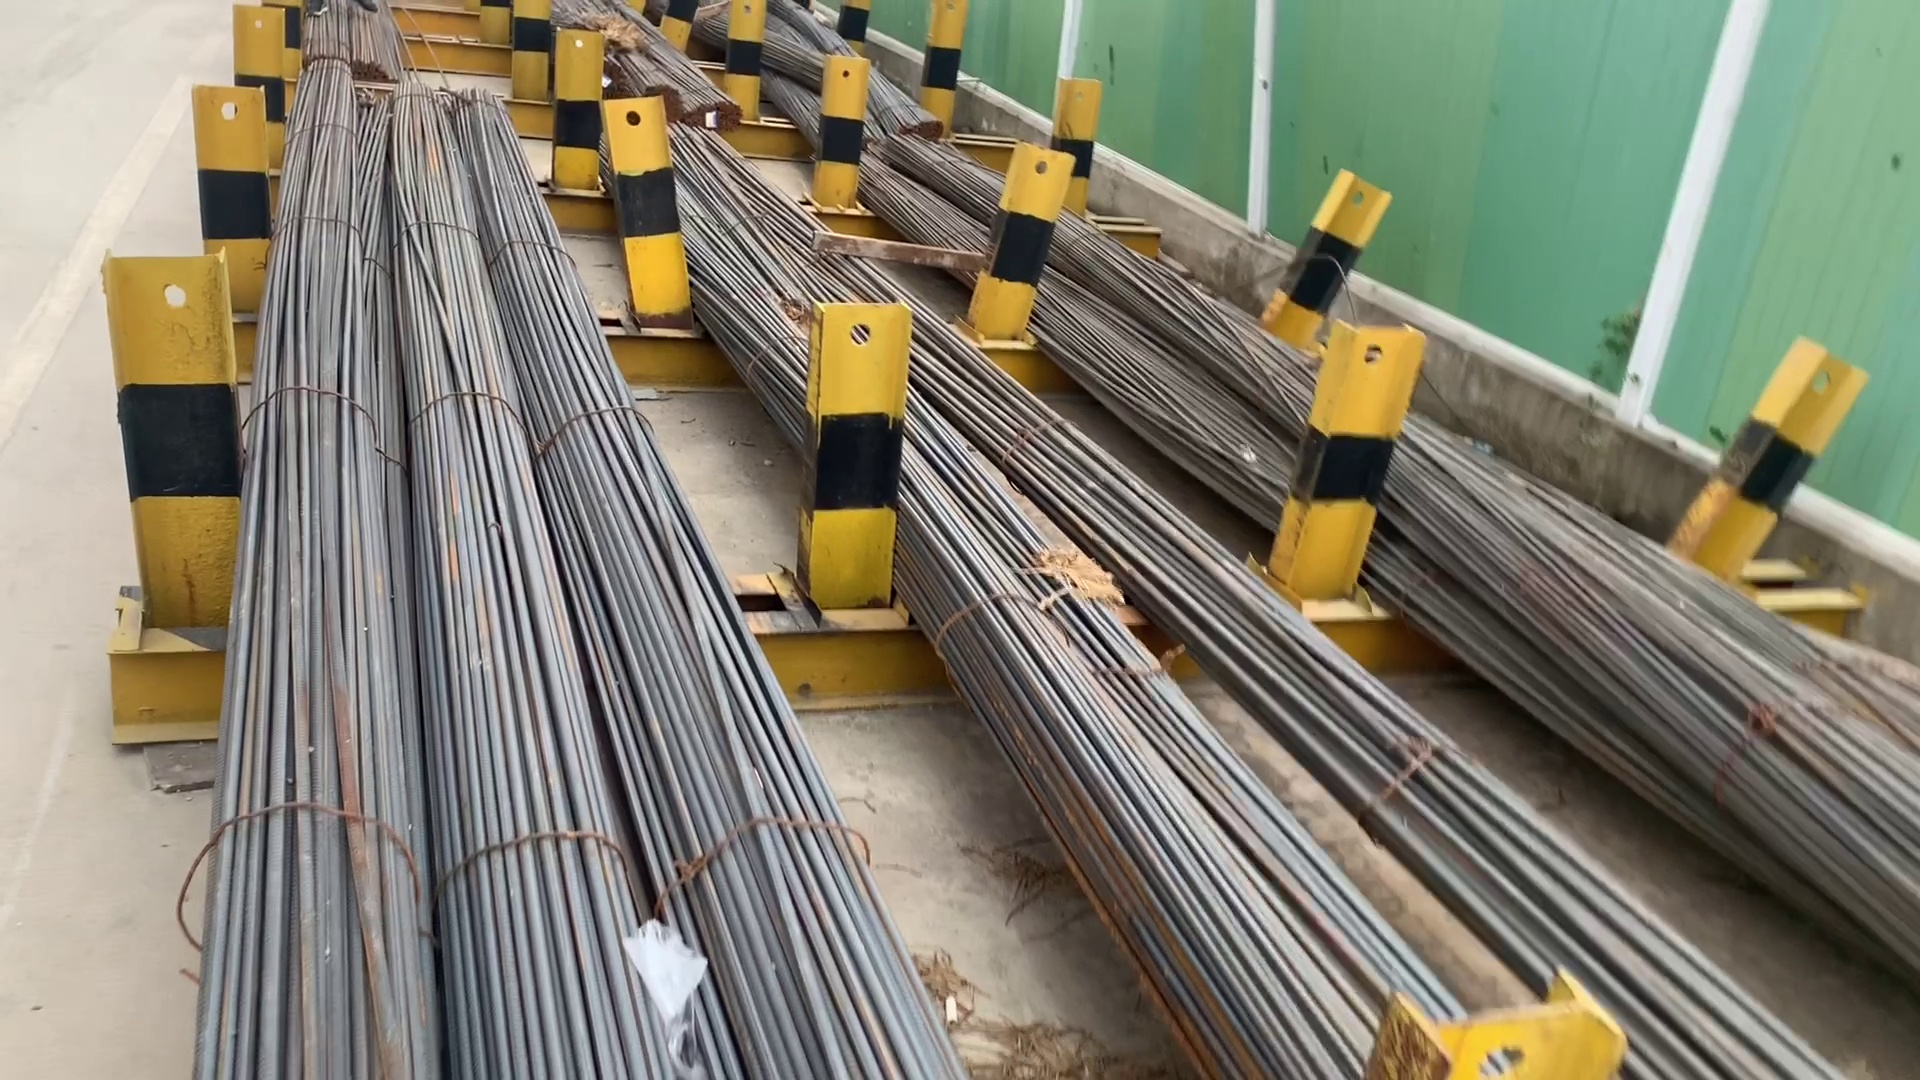rebar: (640, 76, 680, 125), (696, 99, 745, 131), (897, 109, 945, 141), (352, 55, 393, 79)
